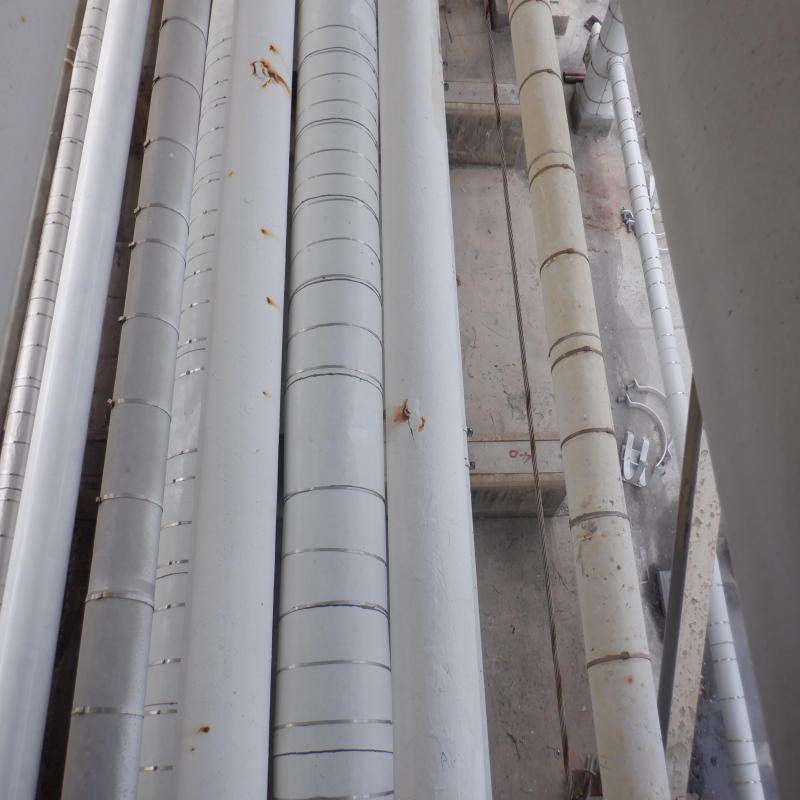corrosion: (252, 55, 292, 88), (394, 406, 426, 436)
